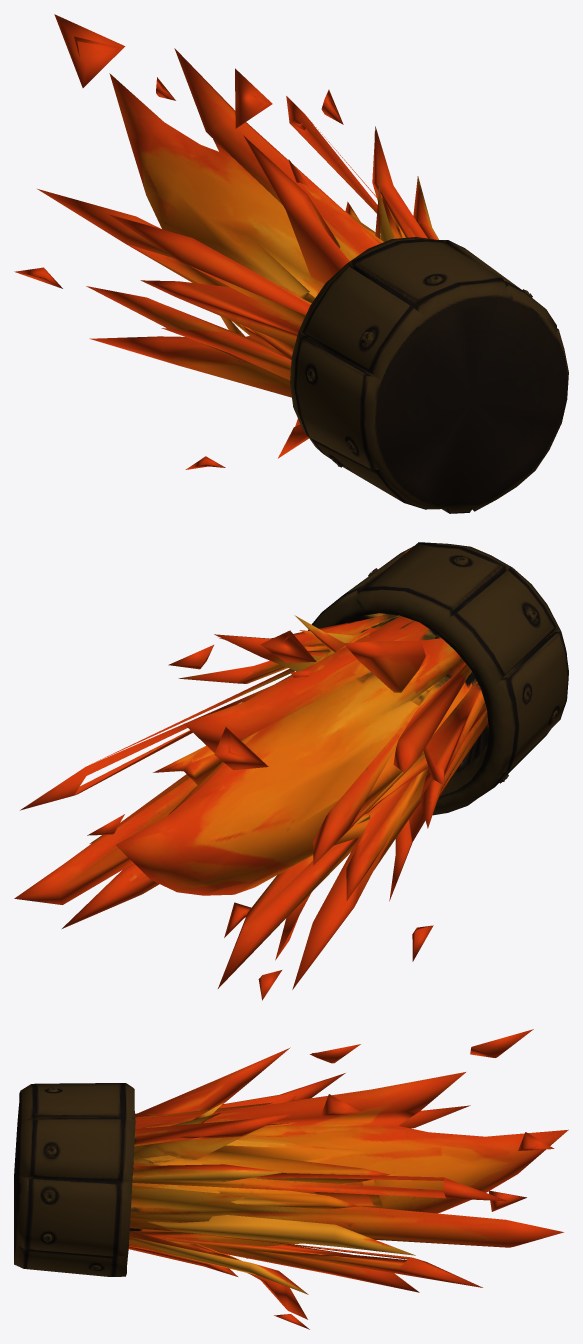
The model's file is nitro-orange.glb.
3 views of the same model, one above another, from view 1: azimuth 30°, elevation 25°; view 2: azimuth 150°, elevation 25°; view 3: azimuth 270°, elevation 25° (orthographic). The views are drawn at different scales.
Parts seen in each view (by area): view 1: tripo_node_35b5fa88-e36a-4d3a-b0bd-9c53523c64d1; view 2: tripo_node_35b5fa88-e36a-4d3a-b0bd-9c53523c64d1; view 3: tripo_node_35b5fa88-e36a-4d3a-b0bd-9c53523c64d1.
Boxes of the visible parts, <box> form: tripo_node_35b5fa88-e36a-4d3a-b0bd-9c53523c64d1: <box>14,14,568,513</box>; tripo_node_35b5fa88-e36a-4d3a-b0bd-9c53523c64d1: <box>14,542,568,1000</box>; tripo_node_35b5fa88-e36a-4d3a-b0bd-9c53523c64d1: <box>14,1029,568,1329</box>.
Size of the model in its own units: 0.4952 by 0.561 by 1.05.
Materials: 1 (1 with a texture image).
